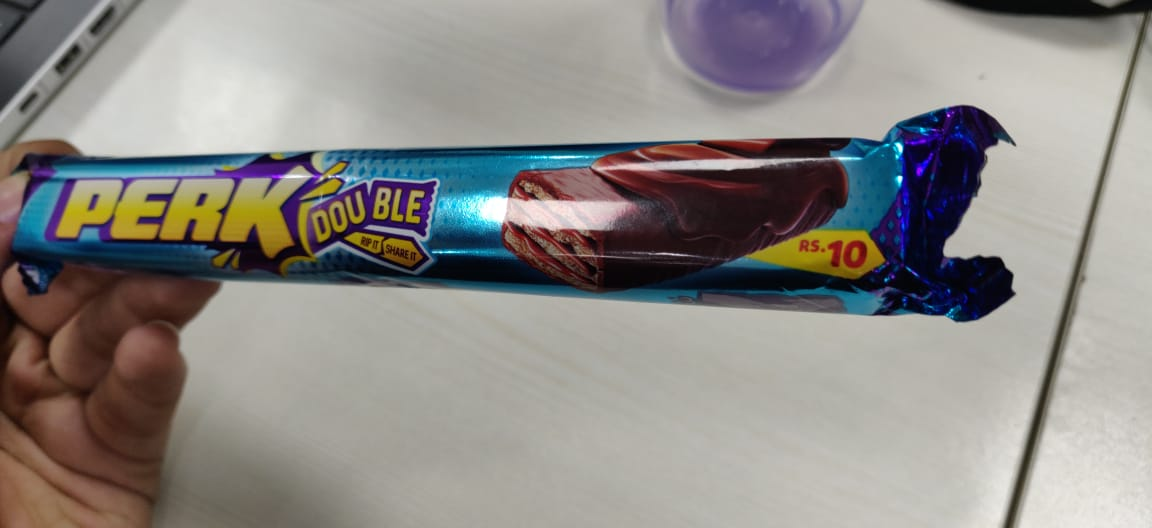perk: (12, 99, 1041, 343)
